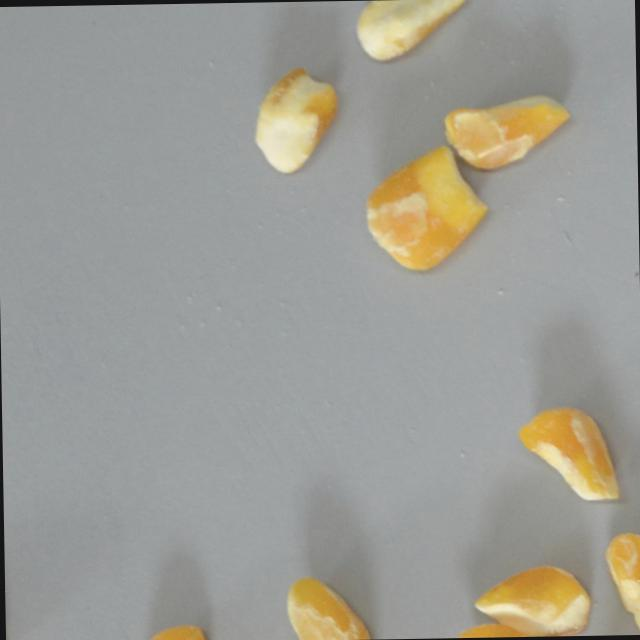estandar: (250, 68, 339, 176), (352, 0, 467, 61), (449, 619, 557, 638)
pelicula: (362, 148, 493, 271), (440, 76, 568, 172), (504, 415, 635, 508), (473, 556, 597, 637), (254, 596, 403, 640), (587, 549, 640, 613)
